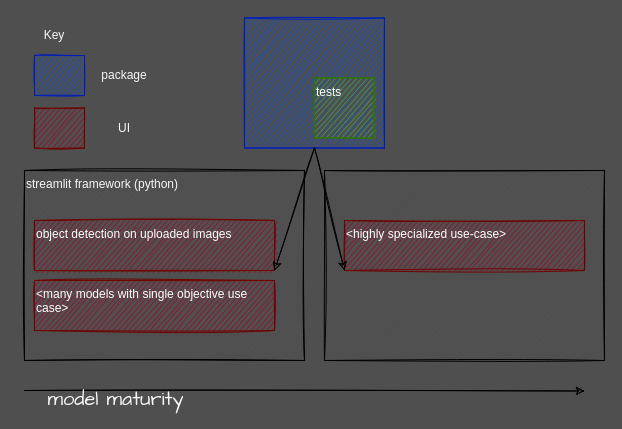
Image size: 622x429. Some labels were removed from this diagram. Here are the shapes that lost their labels. From the top down, the box of each, then its label:
(244, 17, 384, 148): image detection
(324, 170, 604, 360): production application (eg. typescript)
